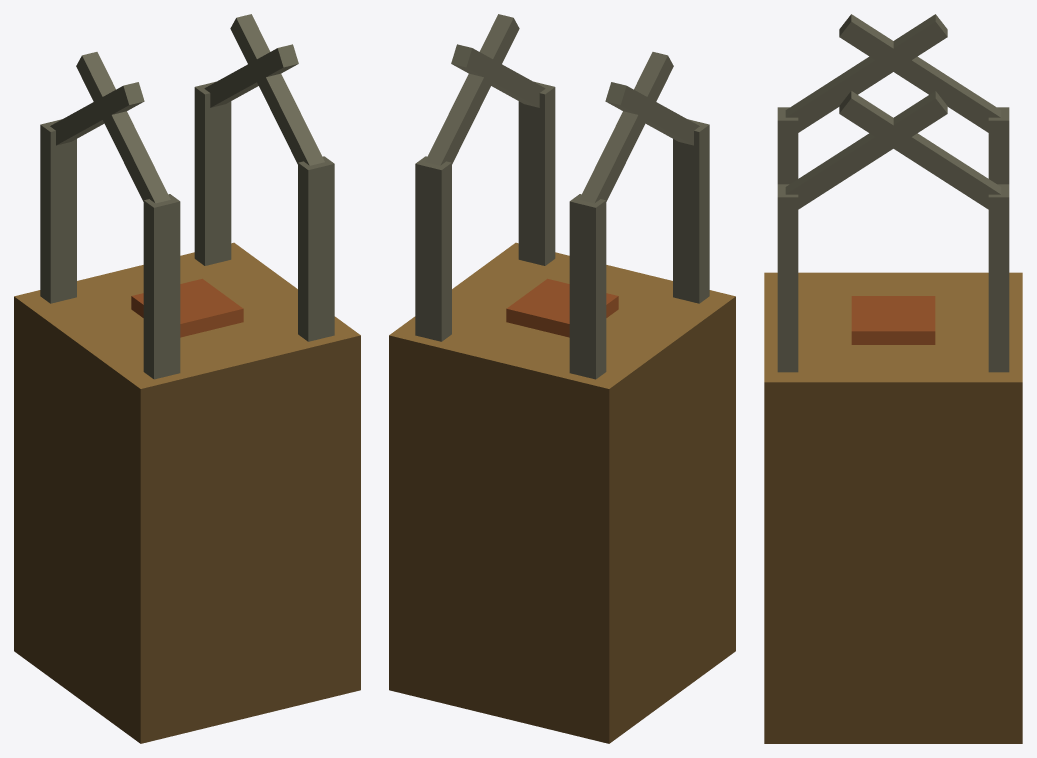
File: expositor 1.fbx
3 views of the same model, side by side, from view 1: azimuth 30°, elevation 25°; view 2: azimuth 150°, elevation 25°; view 3: azimuth 270°, elevation 25° (orthographic).
Visible parts, largest first — view 1: Expositor 1; view 2: Expositor 1; view 3: Expositor 1.
Boxes of the visible parts, x1=… form: Expositor 1: x1=14, y1=14, x2=360, y2=743; Expositor 1: x1=389, y1=14, x2=735, y2=743; Expositor 1: x1=764, y1=14, x2=1022, y2=743.
Bounding box in the file's own units: 145 × 391 × 145.
